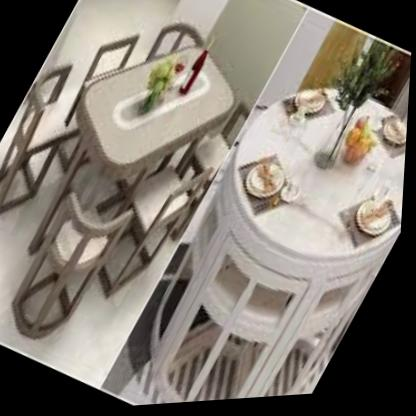Dining Table: (0, 0, 307, 381), (109, 58, 412, 409)
